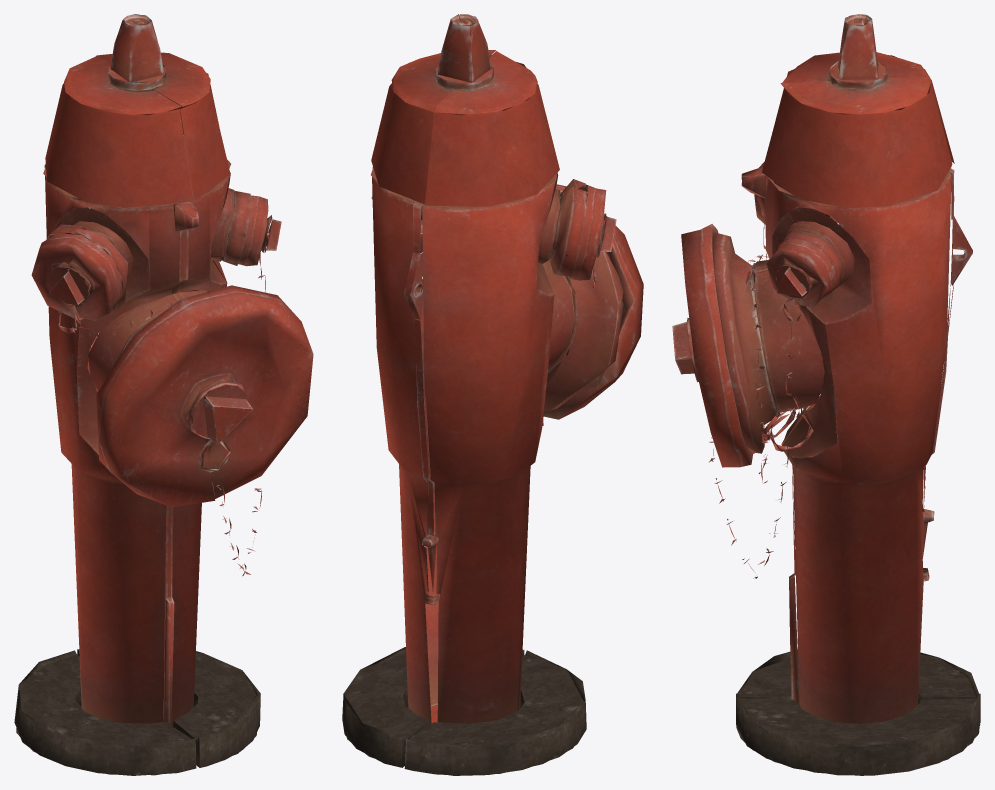
File: hydrant.glb
3 views of the same model, side by side, from view 1: azimuth 30°, elevation 25°; view 2: azimuth 150°, elevation 25°; view 3: azimuth 270°, elevation 25° (orthographic).
Parts seen in each view (by area): view 1: hydrant; view 2: hydrant; view 3: hydrant.
Boxes of the visible parts, bbox=[...] form: hydrant: bbox=[14, 14, 313, 775]; hydrant: bbox=[342, 14, 643, 775]; hydrant: bbox=[672, 14, 980, 775].
Bounding box in the file's own units: 0.2742 × 0.8003 × 0.3173.
Materials: 1 (1 with a texture image).
